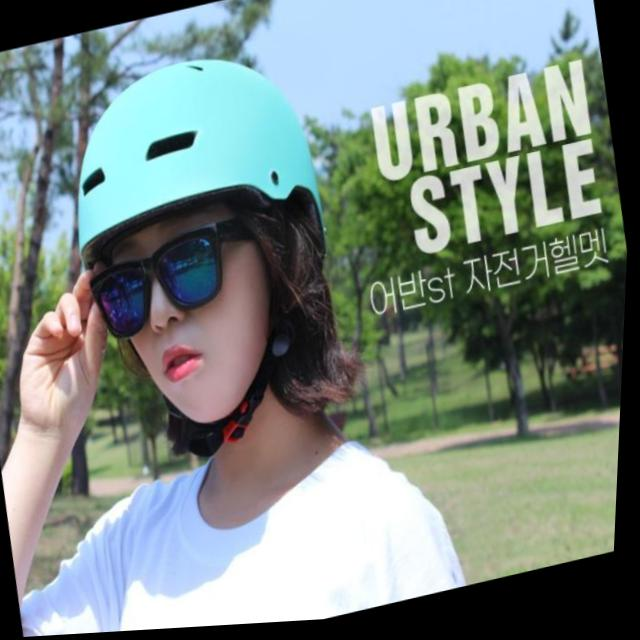helmet: (44, 31, 371, 483)
